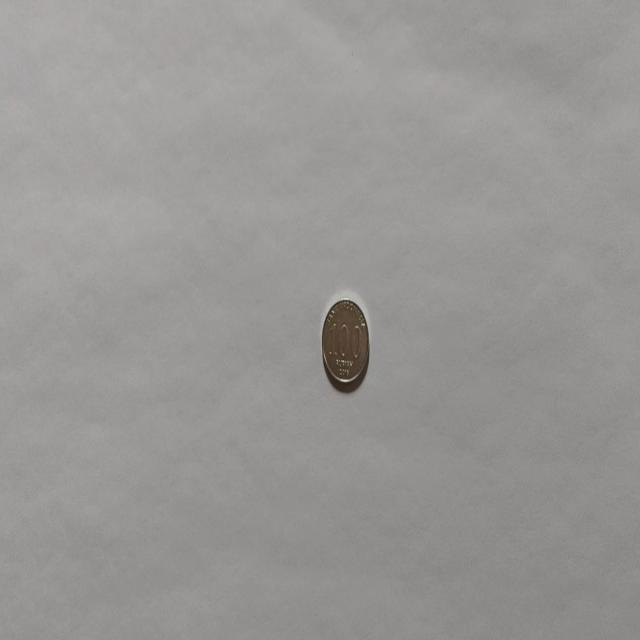seratus rupiah: (320, 296, 370, 390)
